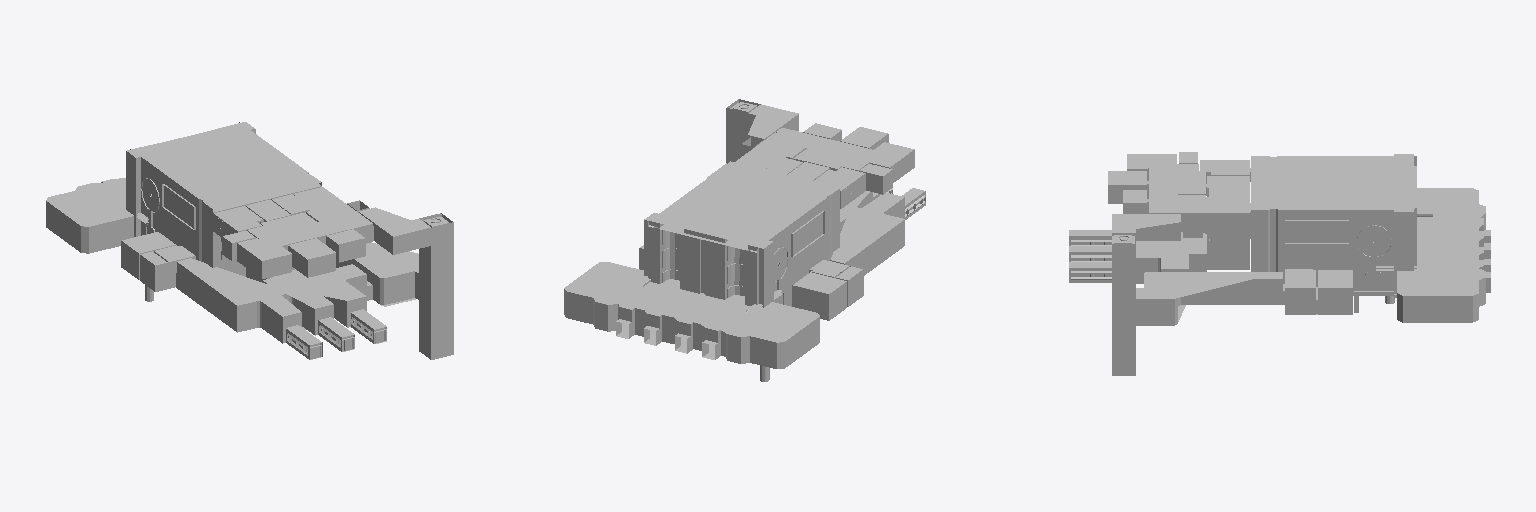
Rendered from ytmap.obj.
The picture shows the model from 3 angles: view 1: azimuth 30°, elevation 25°; view 2: azimuth 150°, elevation 25°; view 3: azimuth 270°, elevation 25°; orthographic projection.
Parts seen in each view (by area): view 1: Plane.039_Plane.034, Plane.019_Plane.018, Plane.022_Plane.025, Plane.037_Plane.032, Plane.035_Plane.030, Plane.034_Plane.029, Plane.036_Plane.031; view 2: Plane.022_Plane.025, Plane.039_Plane.034, Plane.037_Plane.032, Plane.019_Plane.018; view 3: Plane.039_Plane.034, Plane.022_Plane.025, Plane.019_Plane.018, Plane.037_Plane.032, Plane.036_Plane.031, Plane.035_Plane.030, Plane.034_Plane.029.
Boxes of the visible parts, box(x1,y1,x2,y2) form: Plane.039_Plane.034: box(46, 178, 430, 316); Plane.019_Plane.018: box(145, 183, 453, 359); Plane.022_Plane.025: box(46, 122, 345, 312); Plane.037_Plane.032: box(127, 122, 320, 208); Plane.035_Plane.030: box(319, 318, 354, 351); Plane.034_Plane.029: box(287, 326, 322, 359); Plane.036_Plane.031: box(351, 310, 386, 343); Plane.022_Plane.025: box(564, 189, 878, 368); Plane.039_Plane.034: box(564, 104, 914, 342); Plane.037_Plane.032: box(644, 161, 839, 248); Plane.019_Plane.018: box(726, 99, 914, 381); Plane.039_Plane.034: box(1108, 152, 1485, 298); Plane.022_Plane.025: box(1214, 156, 1490, 322); Plane.019_Plane.018: box(1108, 163, 1394, 375); Plane.037_Plane.032: box(1251, 154, 1413, 211); Plane.036_Plane.031: box(1069, 262, 1111, 282); Plane.035_Plane.030: box(1069, 246, 1111, 261); Plane.034_Plane.029: box(1069, 230, 1111, 245).
Size of the model in its own units: 99.52 by 59.95 by 160.